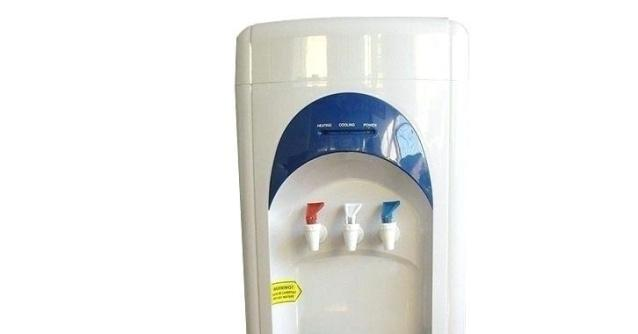Dispenser: (235, 16, 467, 333)
